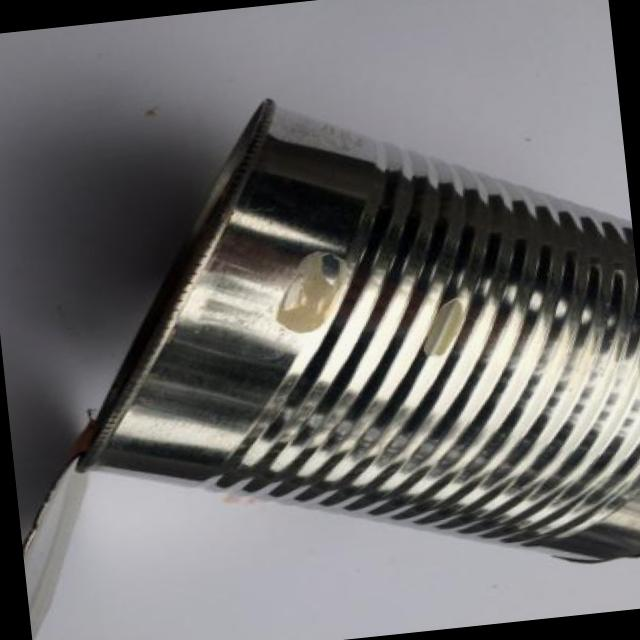metal: (79, 102, 639, 560), (21, 459, 85, 638)
